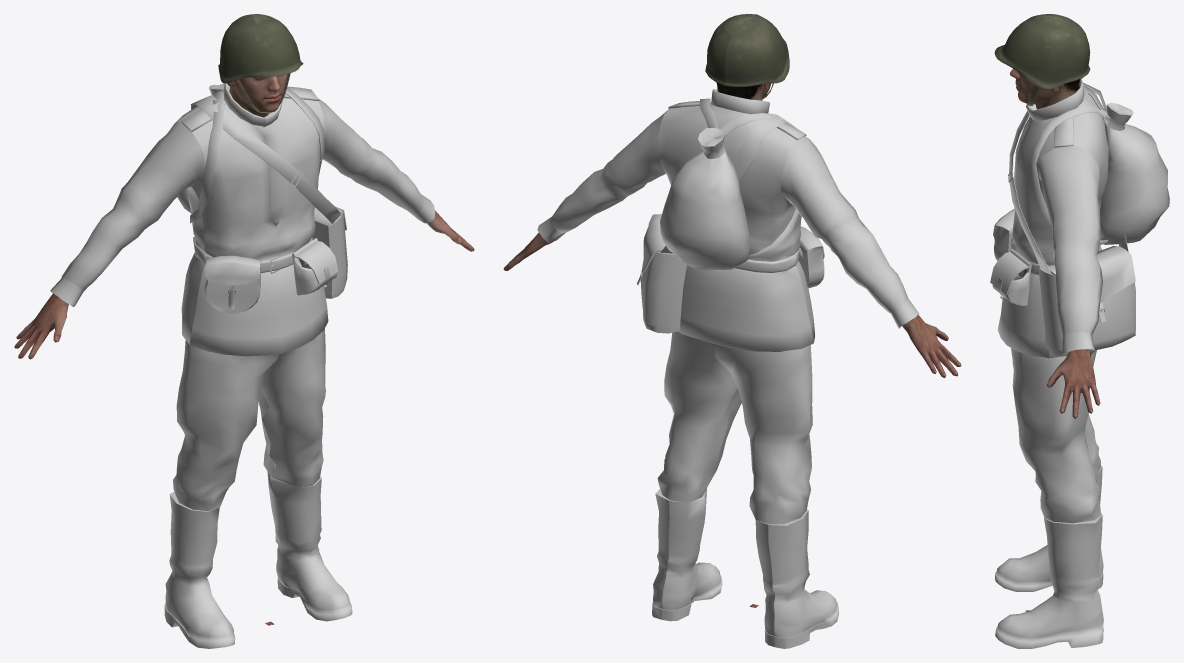
Rendered from soldier.fbx.
The picture shows the model from 3 angles, left to right: view 1: azimuth 30°, elevation 25°; view 2: azimuth 150°, elevation 25°; view 3: azimuth 270°, elevation 25°; orthographic projection.
Visible parts, largest first — view 1: lib_rus_soldier.014, lib_rus_soldier, lib_rus_soldier.005, lib_rus_soldier.006, lib_rus_soldier.002, lib_rus_soldier.004, lib_rus_soldier.009, lib_rus_soldier.003; view 2: lib_rus_soldier.014, lib_rus_soldier.002, lib_rus_soldier.005, lib_rus_soldier, lib_rus_soldier.004, lib_rus_soldier.006; view 3: lib_rus_soldier.014, lib_rus_soldier.002, lib_rus_soldier.005, lib_rus_soldier, lib_rus_soldier.004, lib_rus_soldier.009, lib_rus_soldier.003, lib_rus_soldier.006.
Part boxes in pixels (x1=…): lib_rus_soldier.014: x1=50, y1=83, x2=435, y2=648; lib_rus_soldier: x1=218, y1=14, x2=303, y2=113; lib_rus_soldier.005: x1=190, y1=95, x2=347, y2=298; lib_rus_soldier.006: x1=204, y1=255, x2=260, y2=314; lib_rus_soldier.002: x1=177, y1=83, x2=324, y2=223; lib_rus_soldier.004: x1=14, y1=210, x2=474, y2=359; lib_rus_soldier.009: x1=292, y1=238, x2=338, y2=295; lib_rus_soldier.003: x1=227, y1=74, x2=287, y2=117; lib_rus_soldier.014: x1=537, y1=89, x2=919, y2=648; lib_rus_soldier.002: x1=660, y1=98, x2=798, y2=271; lib_rus_soldier.005: x1=637, y1=115, x2=787, y2=333; lib_rus_soldier: x1=705, y1=14, x2=789, y2=99; lib_rus_soldier.004: x1=503, y1=232, x2=961, y2=377; lib_rus_soldier.006: x1=798, y1=226, x2=824, y2=288; lib_rus_soldier.014: x1=995, y1=78, x2=1108, y2=648; lib_rus_soldier.002: x1=1031, y1=86, x2=1169, y2=244; lib_rus_soldier.005: x1=1008, y1=82, x2=1135, y2=355; lib_rus_soldier: x1=994, y1=14, x2=1090, y2=106; lib_rus_soldier.004: x1=1047, y1=349, x2=1100, y2=418; lib_rus_soldier.009: x1=990, y1=249, x2=1031, y2=305; lib_rus_soldier.003: x1=1010, y1=68, x2=1080, y2=109; lib_rus_soldier.006: x1=993, y1=209, x2=1014, y2=260.
Bounding box in the file's own units: 14503 × 18340 × 5021.
